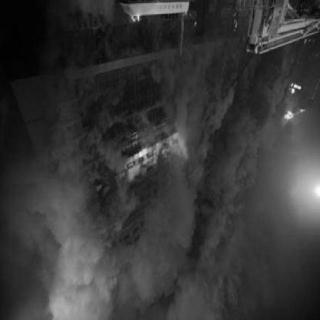Smoke: (32, 194, 252, 318), (184, 50, 266, 194), (16, 68, 106, 194)
other: (312, 182, 320, 207)
